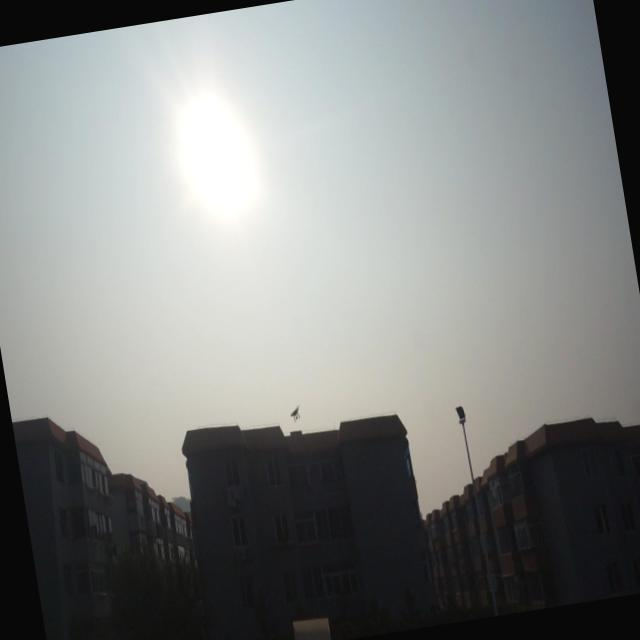drone: (288, 402, 304, 424)
